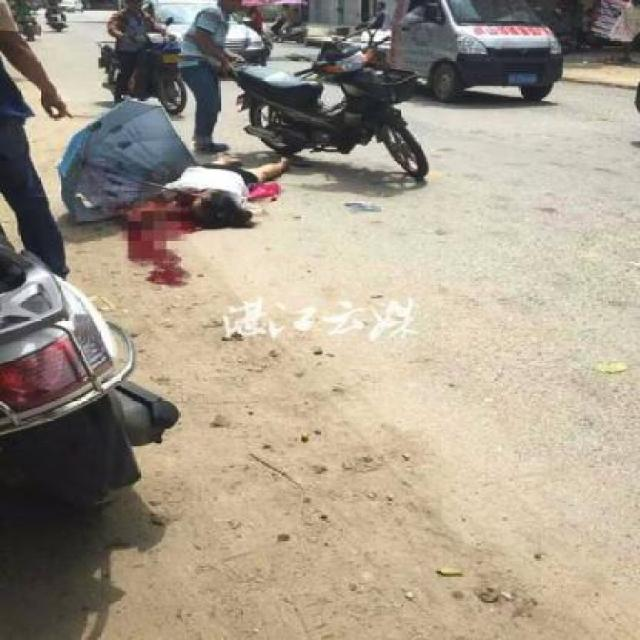fall: (75, 127, 294, 239)
